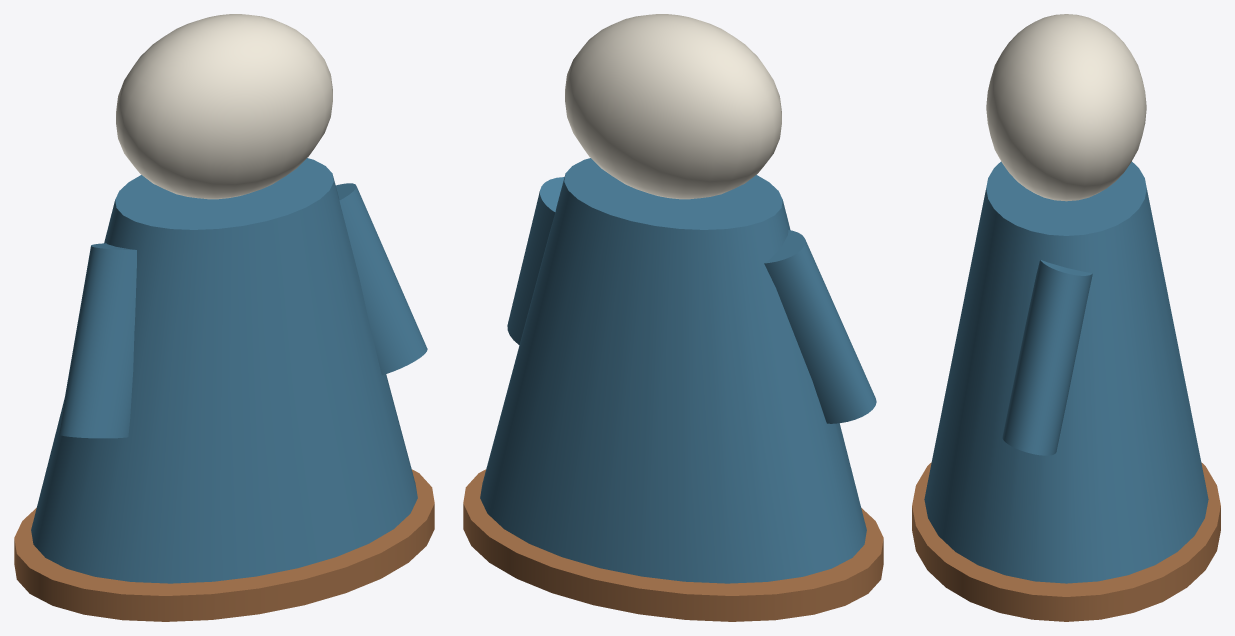
The model's file is wp-feve-de-collection.glb.
3 renders of one model, left to right at view 1: azimuth 30°, elevation 25°; view 2: azimuth 150°, elevation 25°; view 3: azimuth 270°, elevation 25°, orthographic. The views are drawn at different scales.
Parts seen in each view (by area): view 1: wp-feve-de-collection; view 2: wp-feve-de-collection; view 3: wp-feve-de-collection.
Part boxes in pixels (x1,y1,x2,y2): wp-feve-de-collection: [14, 14, 434, 621]; wp-feve-de-collection: [463, 14, 883, 621]; wp-feve-de-collection: [912, 14, 1220, 621].
Size of the model in its own units: 0.035 by 0.045 by 0.025.
